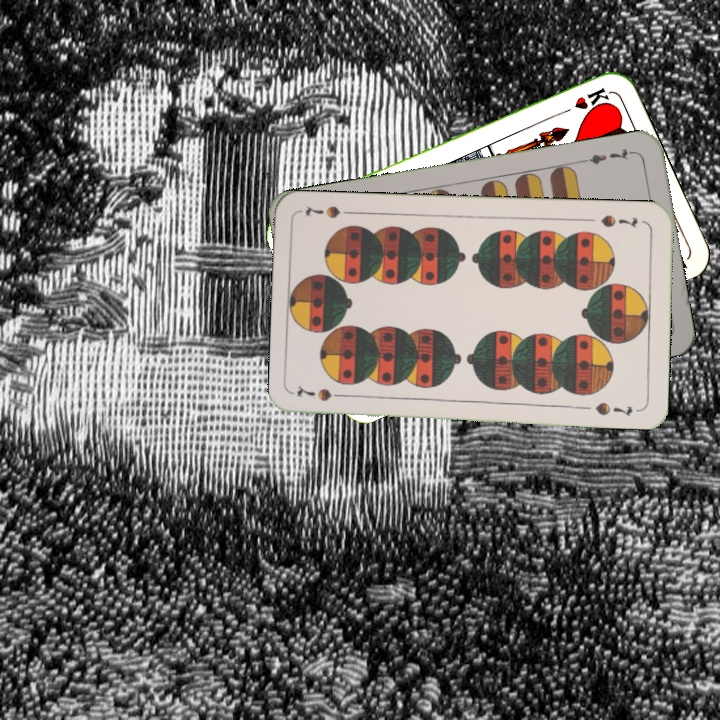E7: (578, 144, 637, 167)
HK: (554, 83, 612, 119)
S7: (293, 383, 352, 404), (596, 211, 640, 231)
